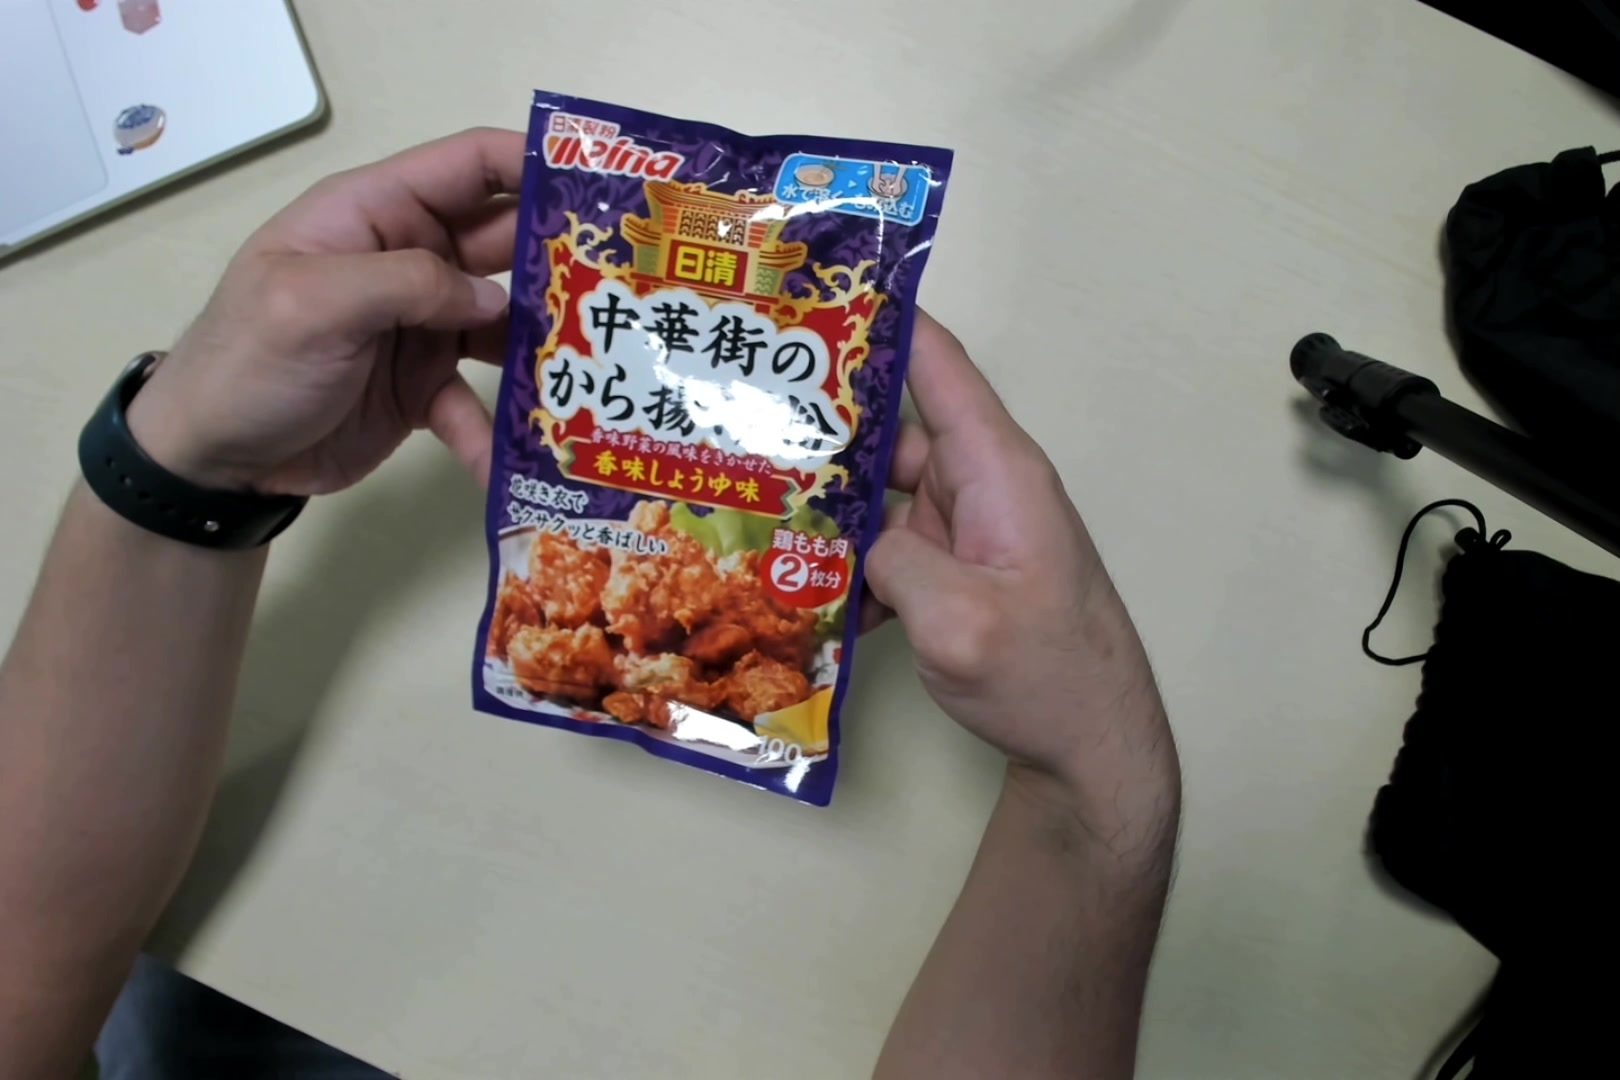OtherBakingNeeds_100-199g_NonHalal_NonHealthy: (474, 87, 950, 815)
